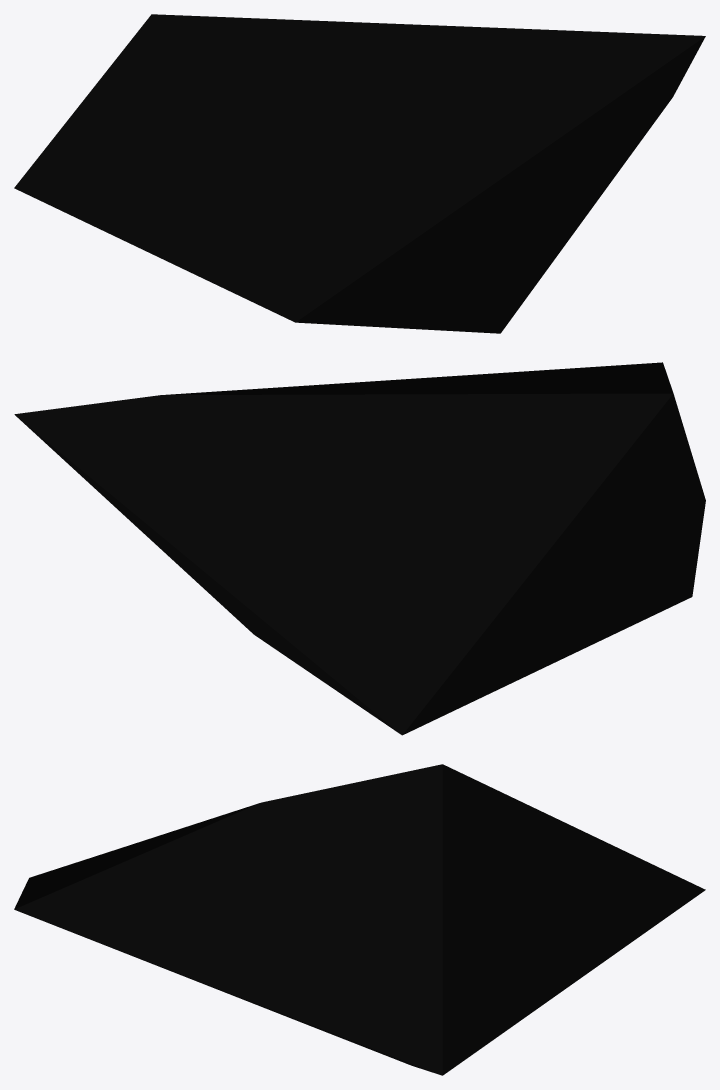
3 views of the same model, one above another, from view 1: azimuth 30°, elevation 25°; view 2: azimuth 150°, elevation 25°; view 3: azimuth 270°, elevation 25° (orthographic). The views are drawn at different scales.
Bounding box in the file's own units: 0.0906 × 0.026 × 0.0878.
1 material, 1 textured.
